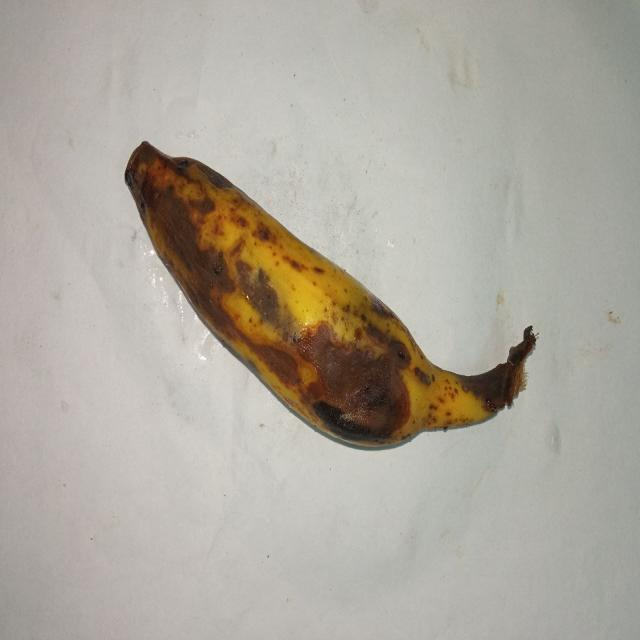rotten_banana: (124, 142, 514, 456)
